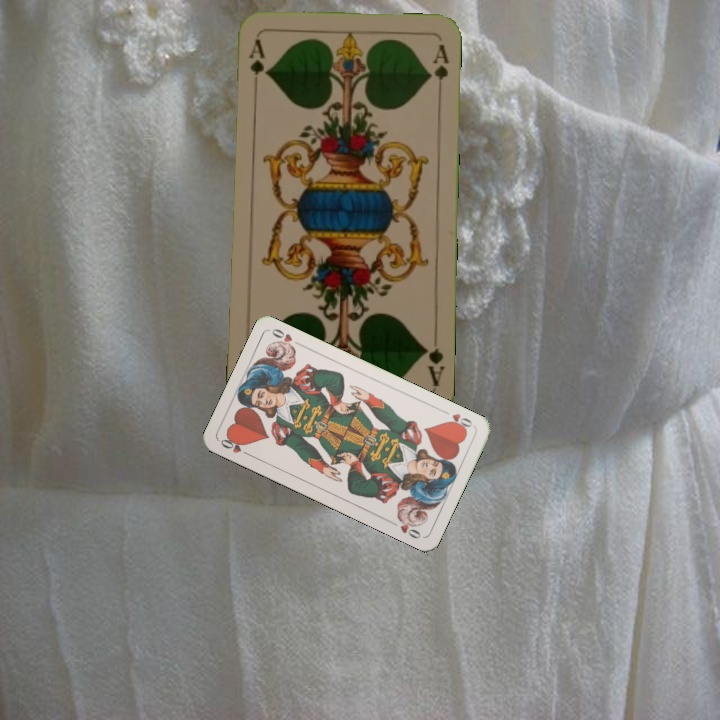GA: (419, 328, 446, 388), (245, 35, 267, 94)
HO: (438, 406, 475, 433), (216, 433, 254, 459)
